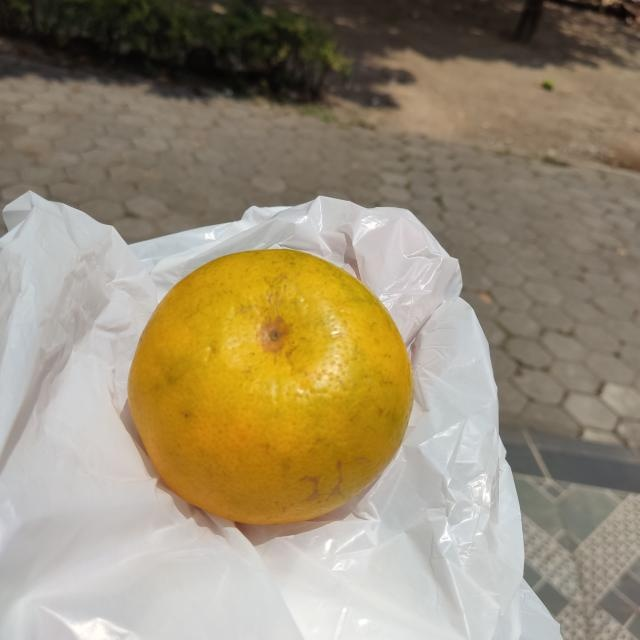agrume: (125, 249, 414, 524)
